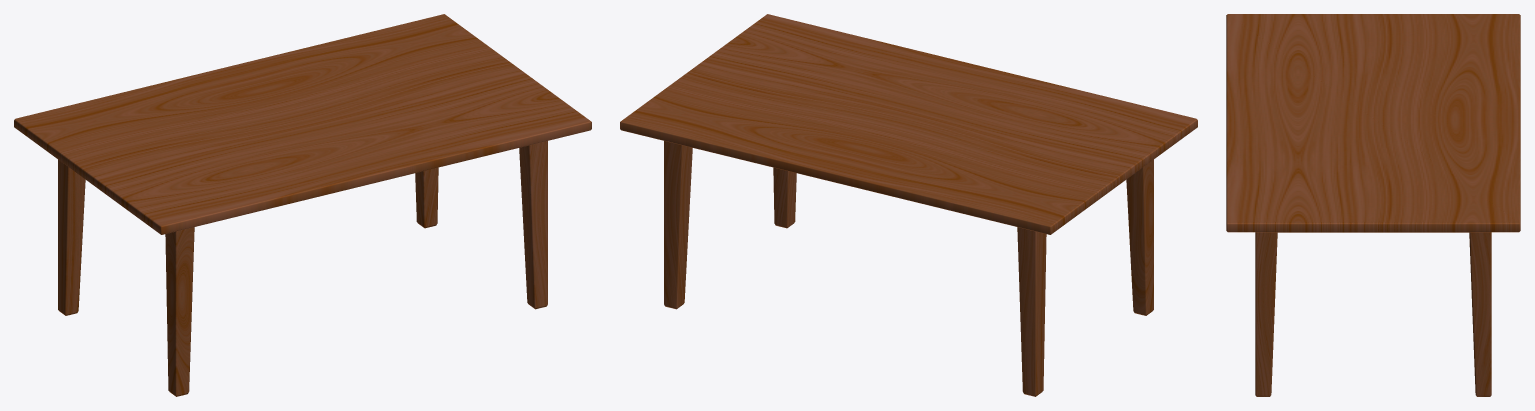
The model's file is Table_01.fbx.
3 renders of one model, left to right at view 1: azimuth 30°, elevation 25°; view 2: azimuth 150°, elevation 25°; view 3: azimuth 270°, elevation 25°, orthographic.
Parts seen in each view (by area): view 1: Table_01; view 2: Table_01; view 3: Table_01.
Part boxes in pixels (left/top/right/bottom): Table_01: left=14, top=14, right=591, bottom=396; Table_01: left=620, top=14, right=1197, bottom=396; Table_01: left=1226, top=14, right=1520, bottom=396.
Size of the model in its own units: 174 by 72.95 by 103.
